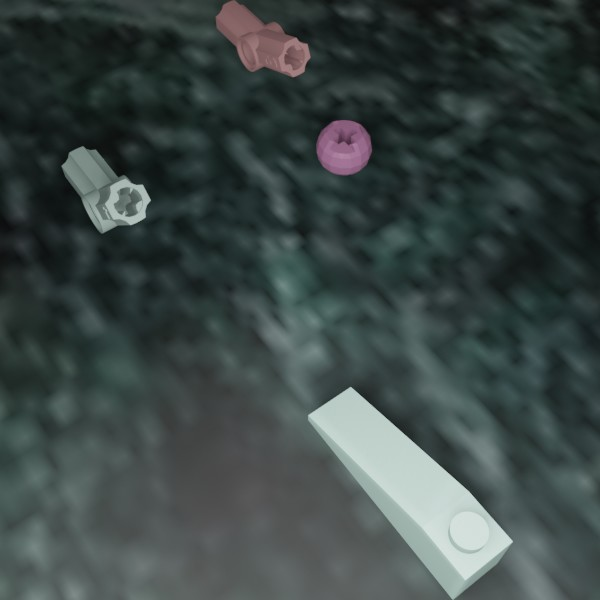lego: (308, 387, 512, 600), (61, 146, 150, 233), (215, 0, 310, 77), (316, 120, 372, 175)
